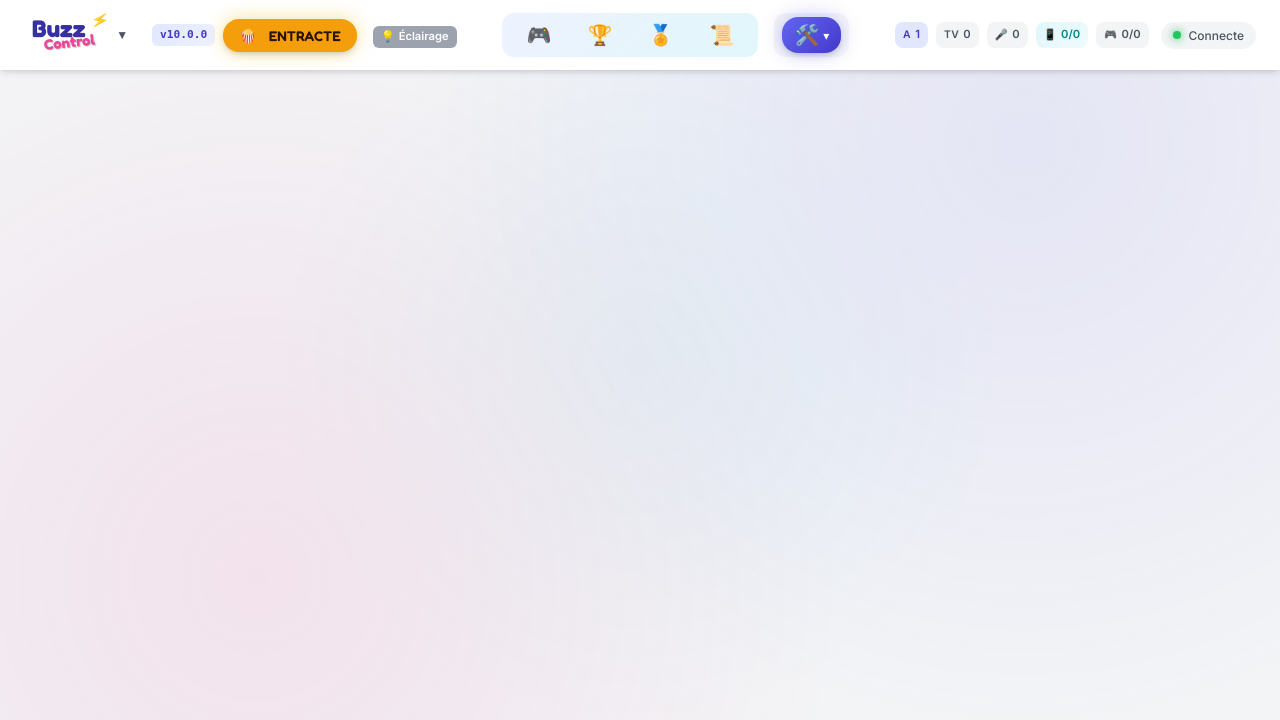
Navbar — bouton d'accès aux commandes d'éclairage (#208) › recliquer le bouton referme le popover
The width and height of the screenshot is (1280, 720).
Step 1. Click the button with class "lighting-mode-nav-badge" → (415, 37), box 373,26 -> 457,48
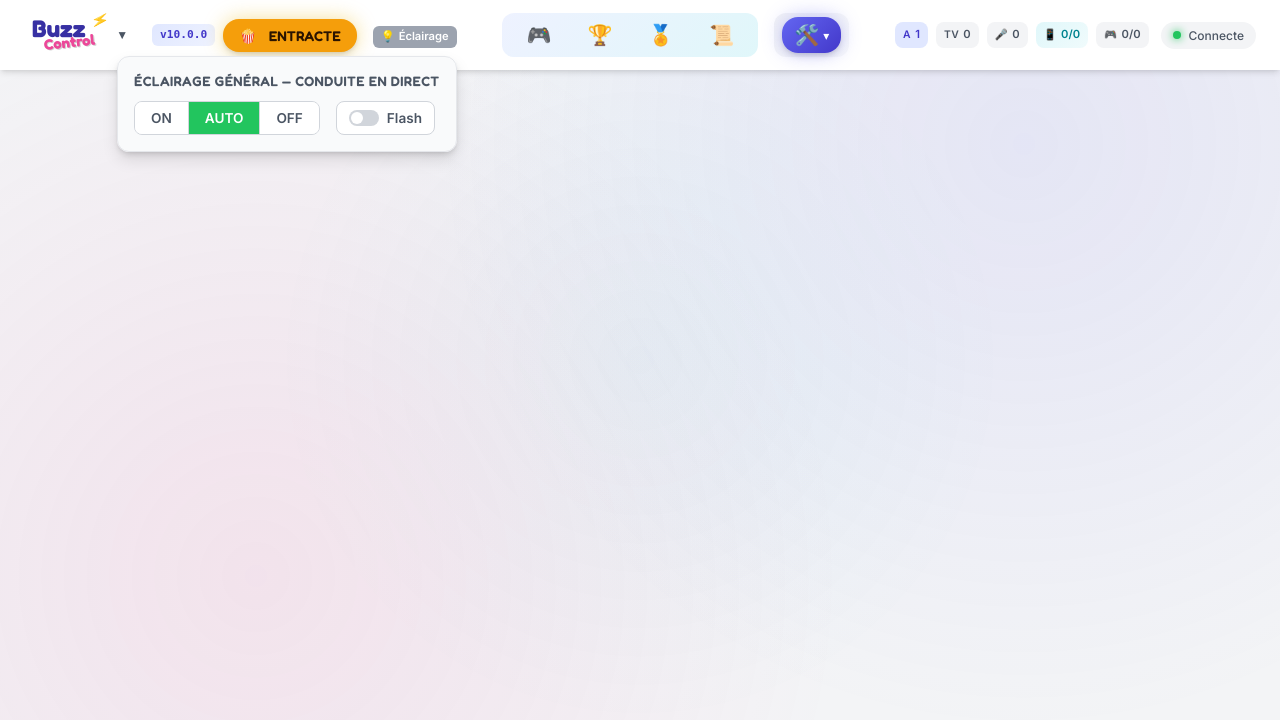
expect the element with class "lighting-mode-popover" is shown: met, box 117,56 -> 457,152
Step 2. Click the button with class "lighting-mode-nav-badge" → (415, 37), box 373,26 -> 457,48
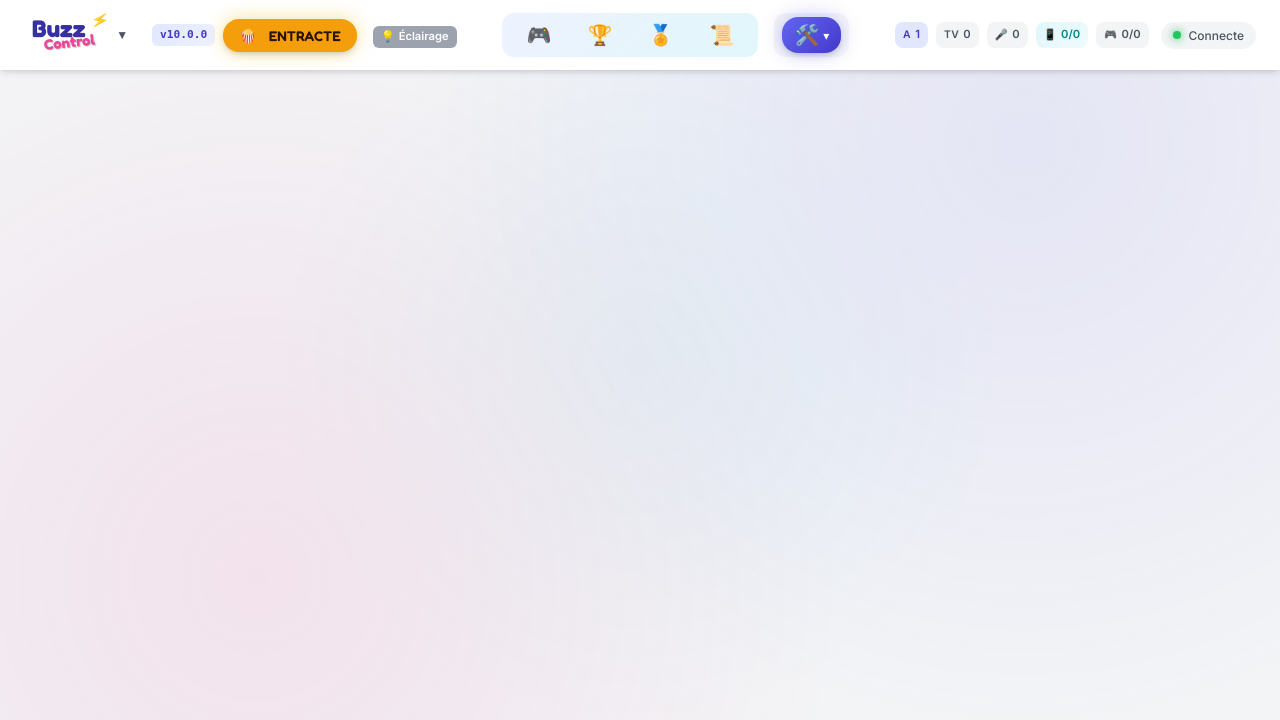
expect the element with class "lighting-mode-popover" is gone: met
